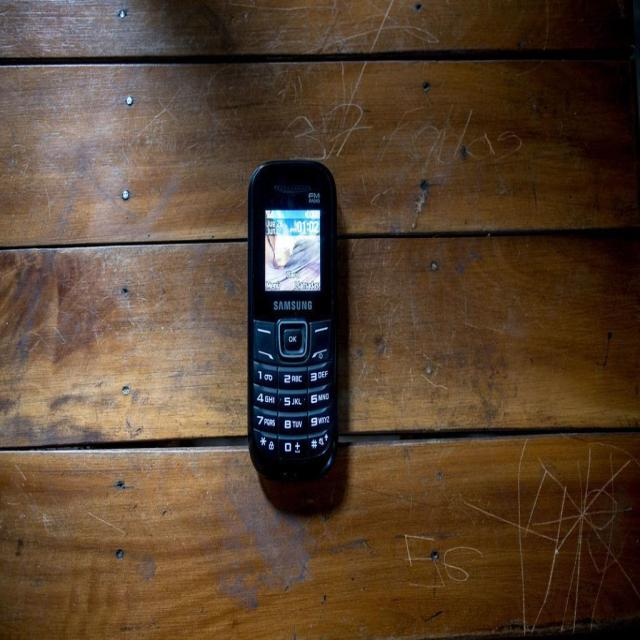Phone: (247, 157, 342, 479)
